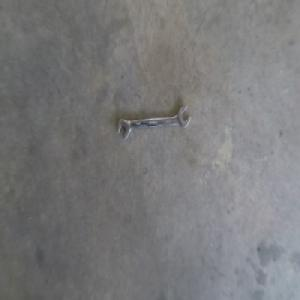Wrench: (112, 104, 195, 142)
